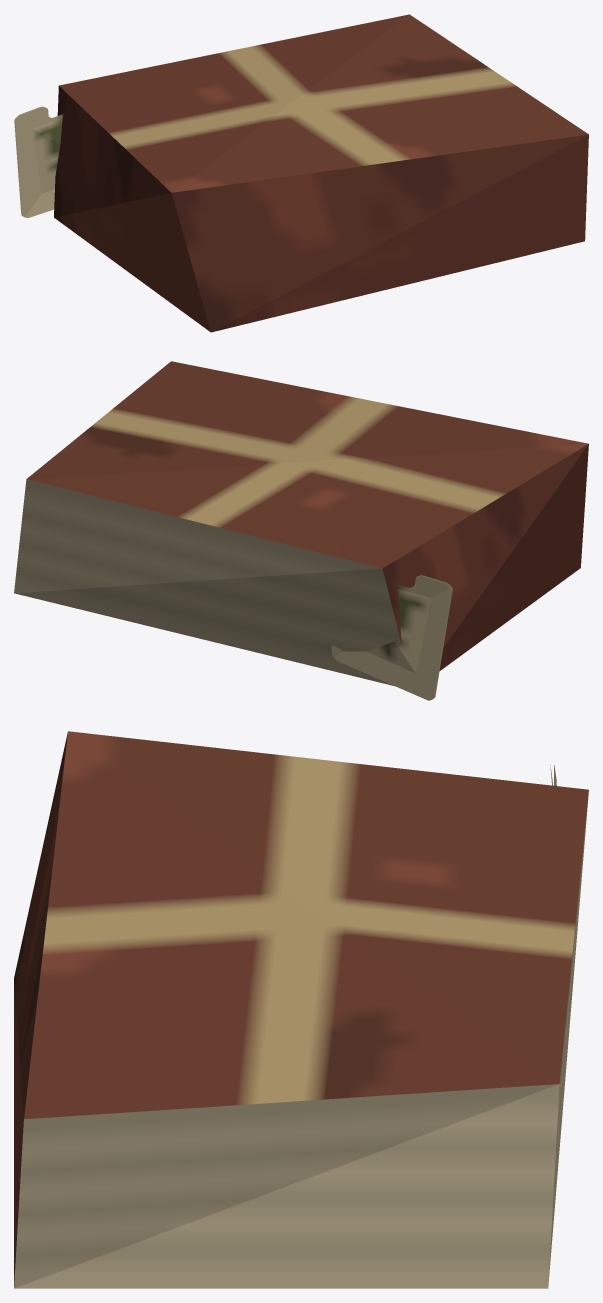
The model's file is SM_WrappedBook.fbx.
3 renders of one model, top to bottom at view 1: azimuth 30°, elevation 25°; view 2: azimuth 150°, elevation 25°; view 3: azimuth 270°, elevation 25°, orthographic. The views are drawn at different scales.
Parts seen in each view (by area): view 1: WrappedBook_Visual, WrappedBook_Tag; view 2: WrappedBook_Visual, WrappedBook_Tag; view 3: WrappedBook_Visual.
Boxes of the visible parts, <box> form: WrappedBook_Visual: <box>54,14,588,332</box>; WrappedBook_Tag: <box>14,78,118,217</box>; WrappedBook_Visual: <box>14,361,588,686</box>; WrappedBook_Tag: <box>331,548,452,700</box>; WrappedBook_Visual: <box>14,731,588,1288</box>.
Size of the model in its own units: 0.2465 by 0.0752 by 0.1722.
